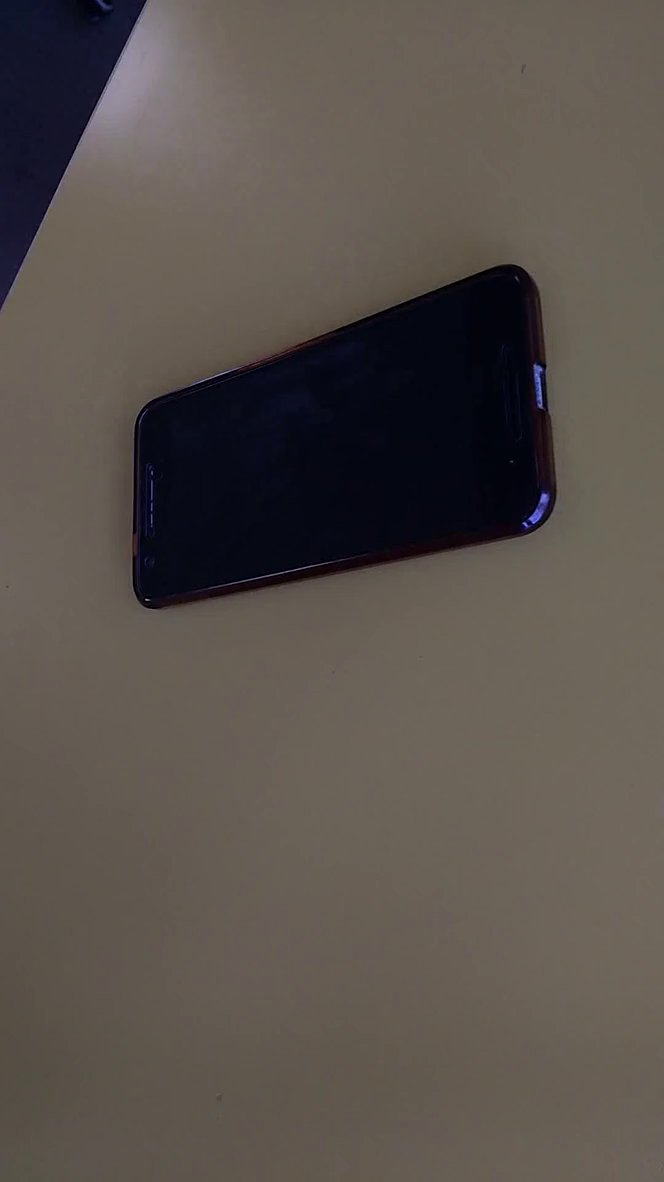phone: (126, 255, 566, 620)
